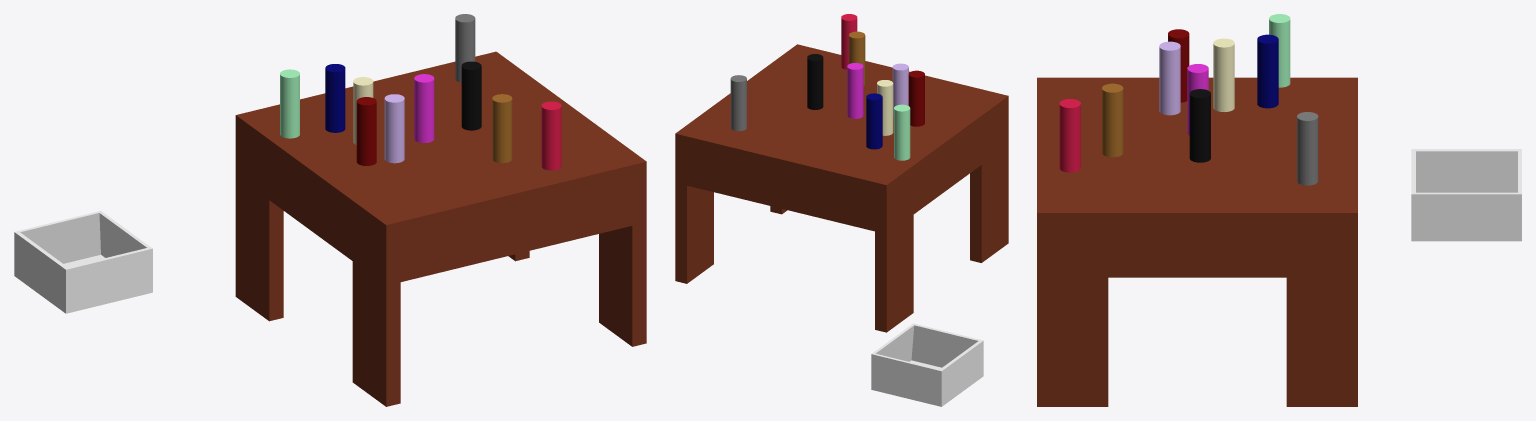
The model's file is env.dae.
3 renders of one model, left to right at view 1: azimuth 30°, elevation 25°; view 2: azimuth 150°, elevation 25°; view 3: azimuth 270°, elevation 25°, orthographic. The views are drawn at different scales.
Visible parts, largest first — view 1: base (×14), SketchUp (×2); view 2: base (×14), SketchUp (×2); view 3: base (×13), SketchUp (×2).
Boxes of the visible parts, x1=… form: base (×14): x1=235, y1=14, x2=646, y2=406; SketchUp (×2): x1=14, y1=211, x2=152, y2=313; base (×14): x1=675, y1=14, x2=1008, y2=332; SketchUp (×2): x1=871, y1=323, x2=983, y2=406; base (×13): x1=1037, y1=14, x2=1357, y2=406; SketchUp (×2): x1=1411, y1=149, x2=1521, y2=241.
Size of the model in its own units: 1.4 by 1.36 by 0.811.
